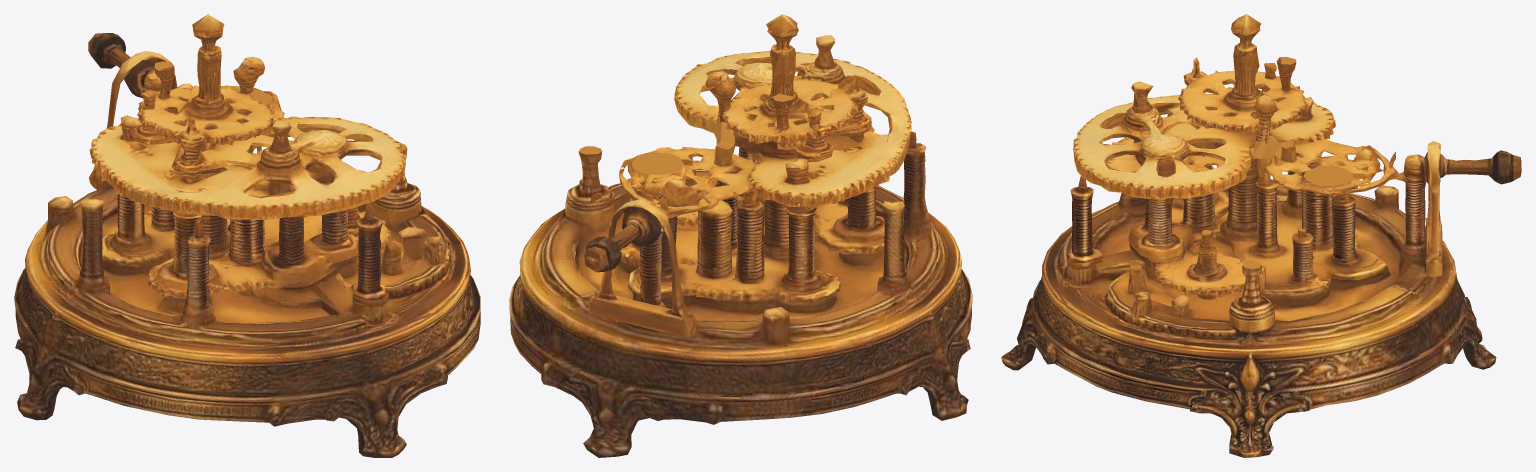
The model's file is gearmachine_animated_4.glb.
3 views of the same model, side by side, from view 1: azimuth 30°, elevation 25°; view 2: azimuth 150°, elevation 25°; view 3: azimuth 270°, elevation 25° (orthographic). The views are drawn at different scales.
Parts seen in each view (by area): view 1: body; view 2: body; view 3: body.
Part boxes in pixels (box(x1,y1,x2,y2)): body: box(14, 14, 480, 457); body: box(509, 14, 972, 457); body: box(1001, 14, 1521, 457).
Size of the model in its own units: 0.4098 by 0.3127 by 0.4484.
1 material, 1 textured.
